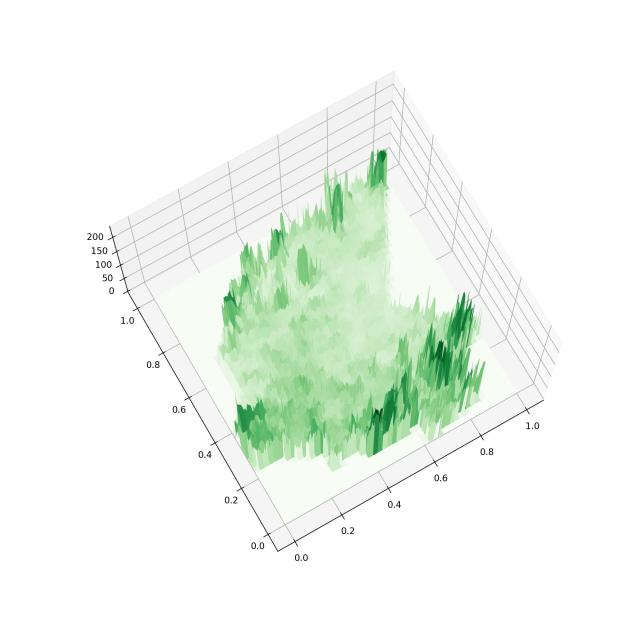fir: (63, 48, 583, 583)
